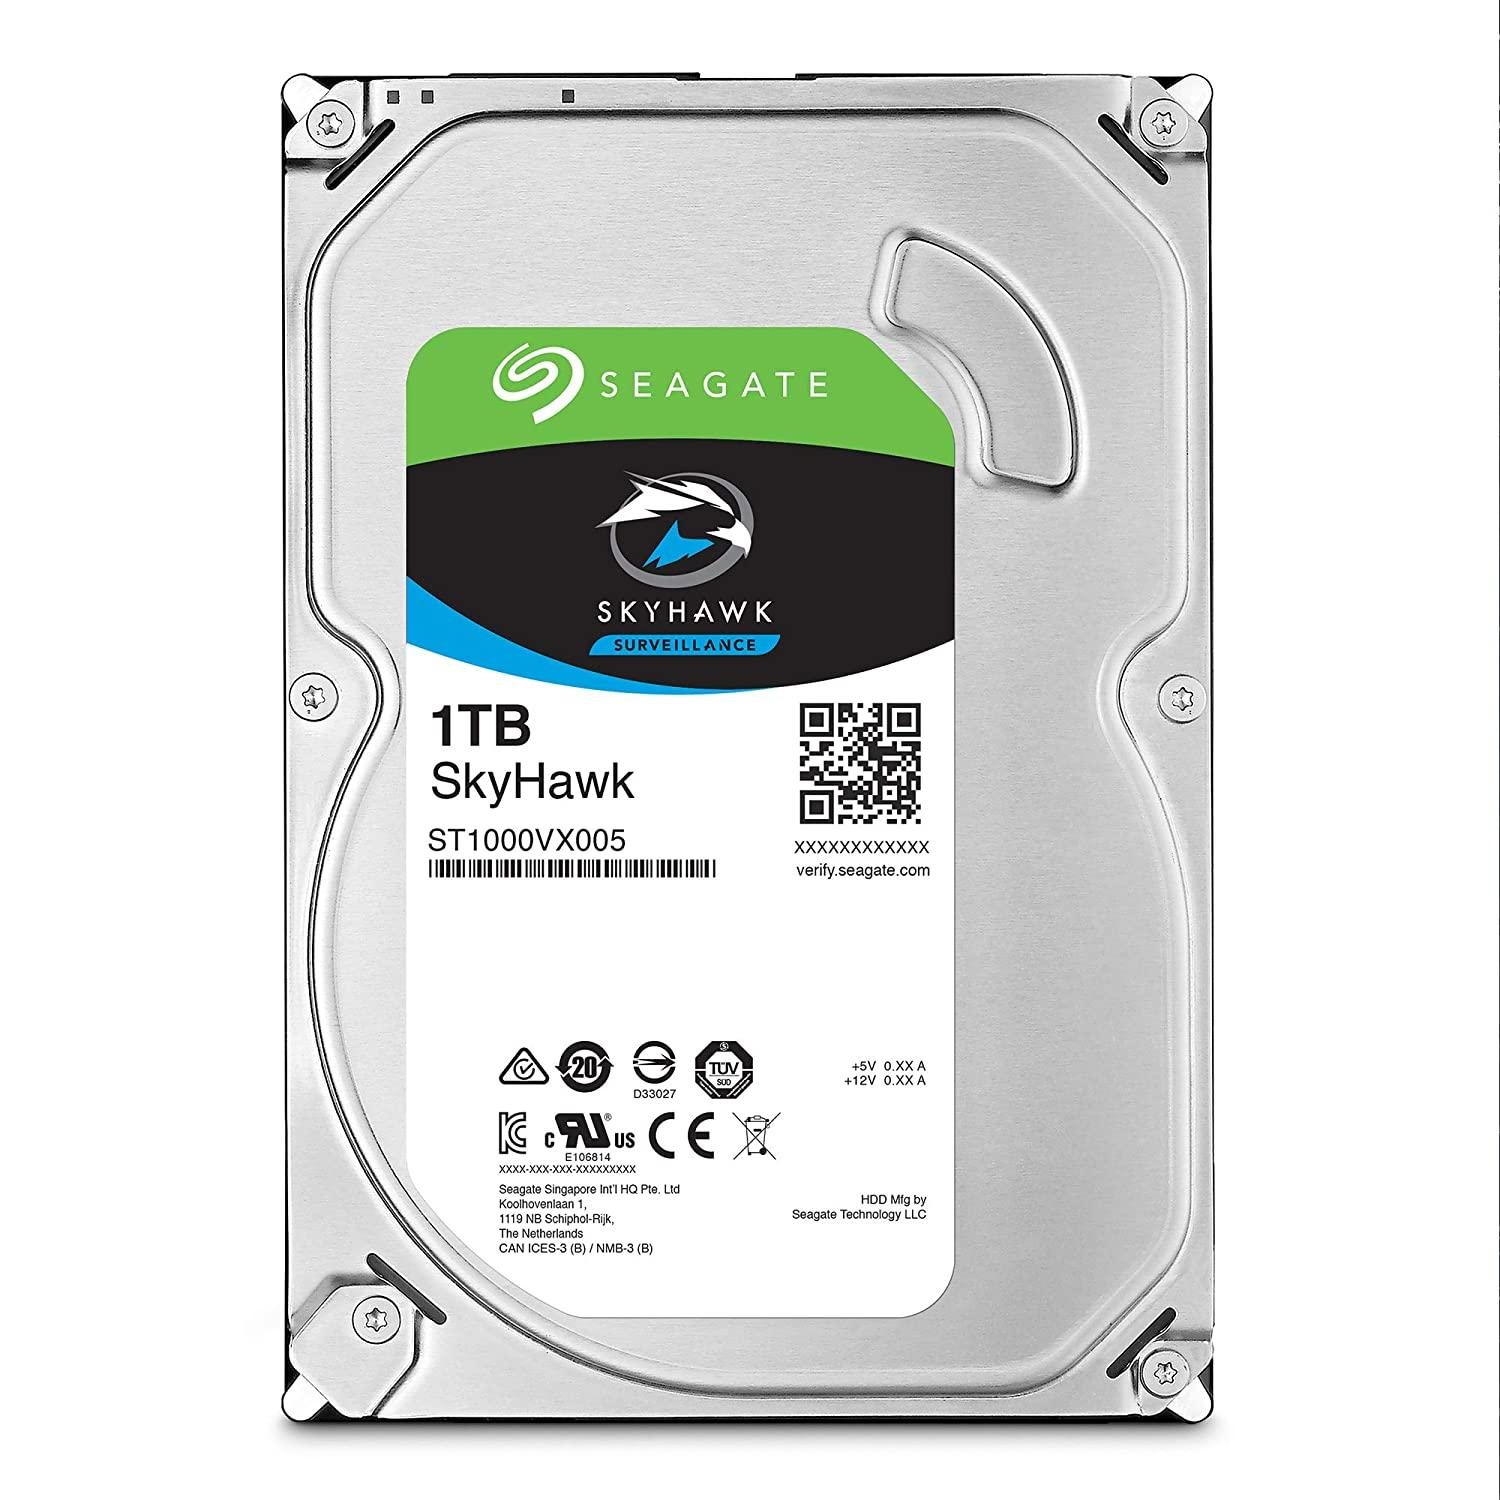internal HDD: (273, 67, 1229, 1435)
